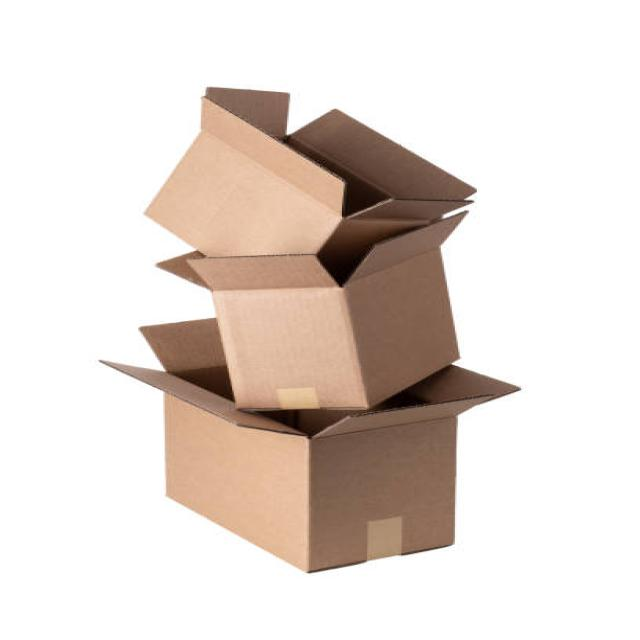electronic: (152, 208, 471, 412), (141, 86, 347, 258), (282, 107, 477, 282)
